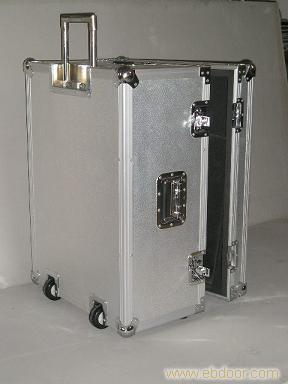luggage: (24, 9, 258, 338)
